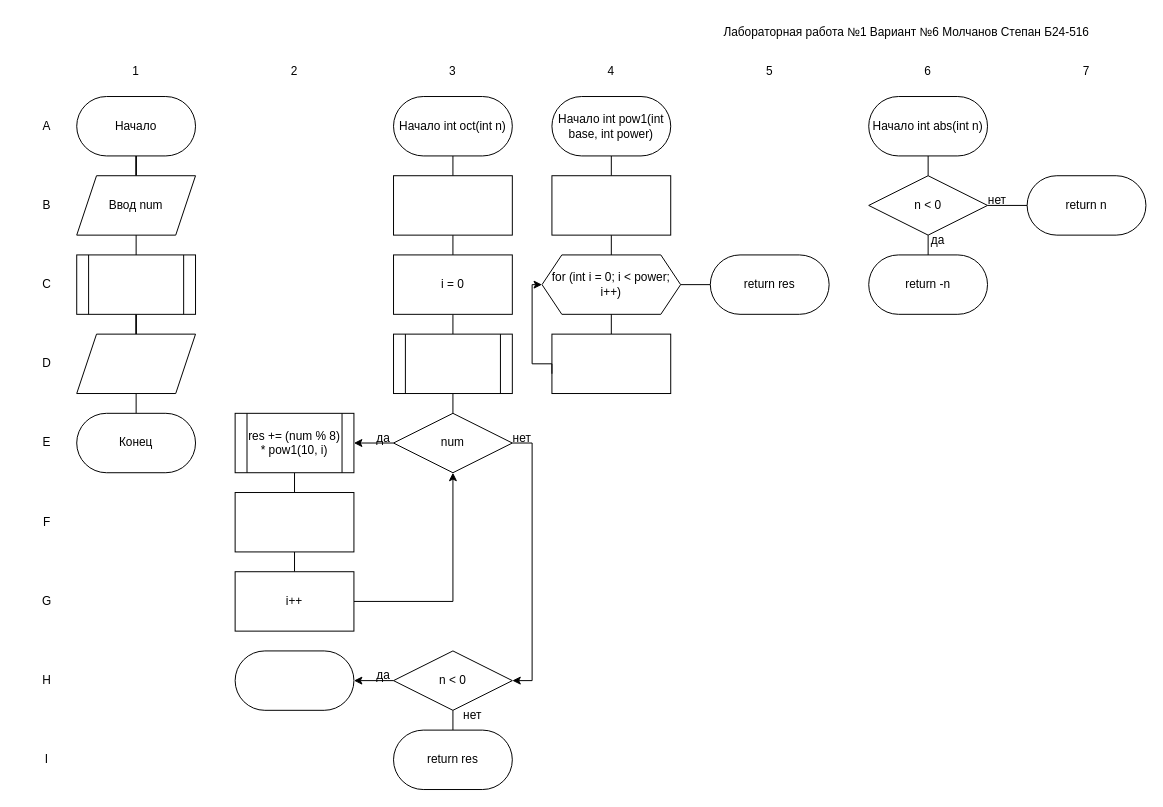
Some shapes in this 1163 by 807 pixel diagram are drawn without their labels. The shapes that lost their labels are listed below. From the top down, each one's centre as x and y in pixels, then its label:
At (452,205): "res = 0".
At (611,205): "res = 1".
At (136,284): "res = oct(num)".
At (136,363): "Вывод res".
At (452,363): "num = abs(n)".
At (611,363): "res *= base".
At (294,522): "num /= 8".
At (294,680): "return -res".
